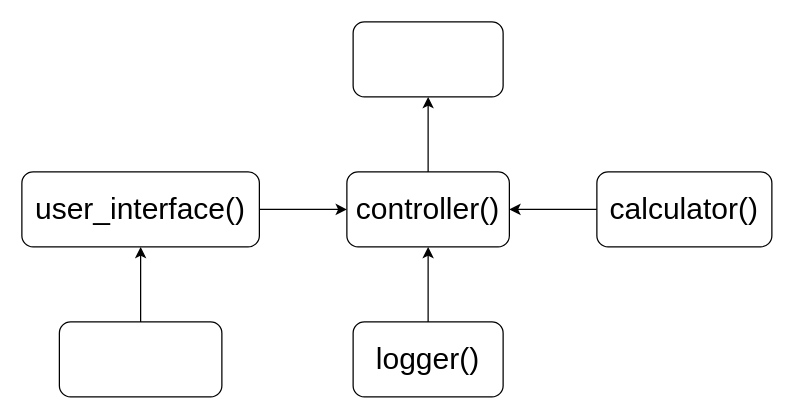
This 794x419 diagram has some shape labels left out. Each missing label, with the centre of its shape:
"checking()" goes at pixel 140 359.
"main()" goes at pixel 427 59.
